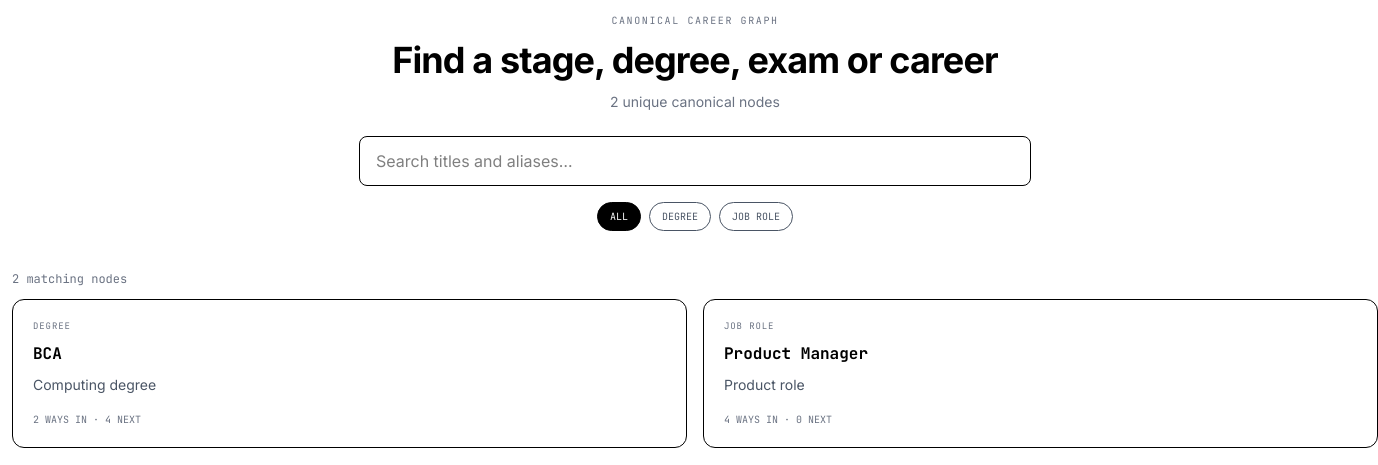
Test case: CareerDirectory › filters by node type immediately, without waiting for the debounce
Click the button "Job Role".
click(756, 216)  # box [719,202,793,231]
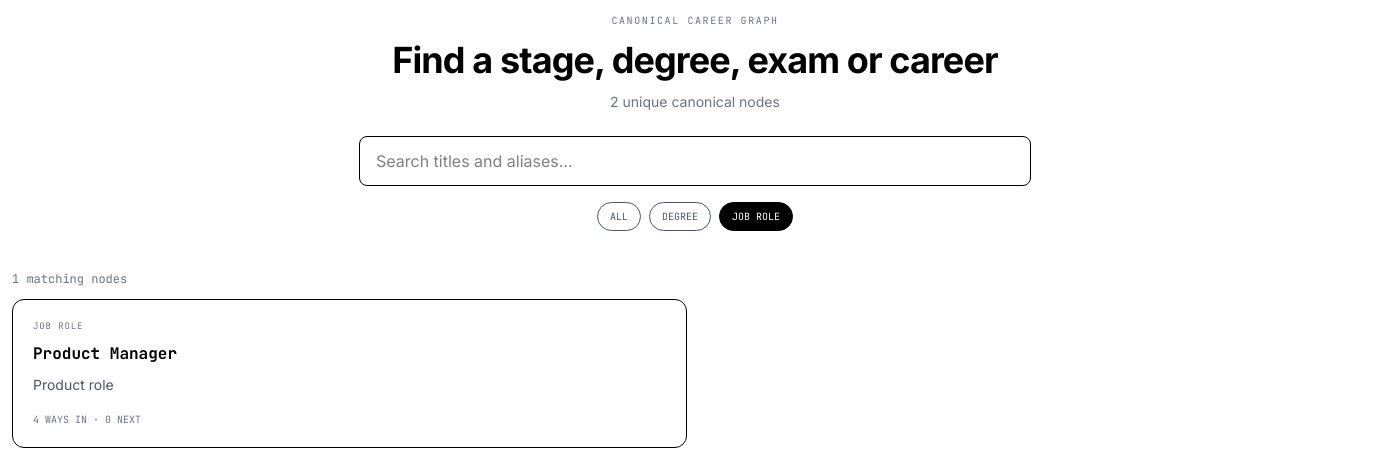
Expected: the link "Job Role Product Manager Product role 4 ways in · 0 next" is shown, [12,299,687,448]
Expected: the link "BCA" is gone
